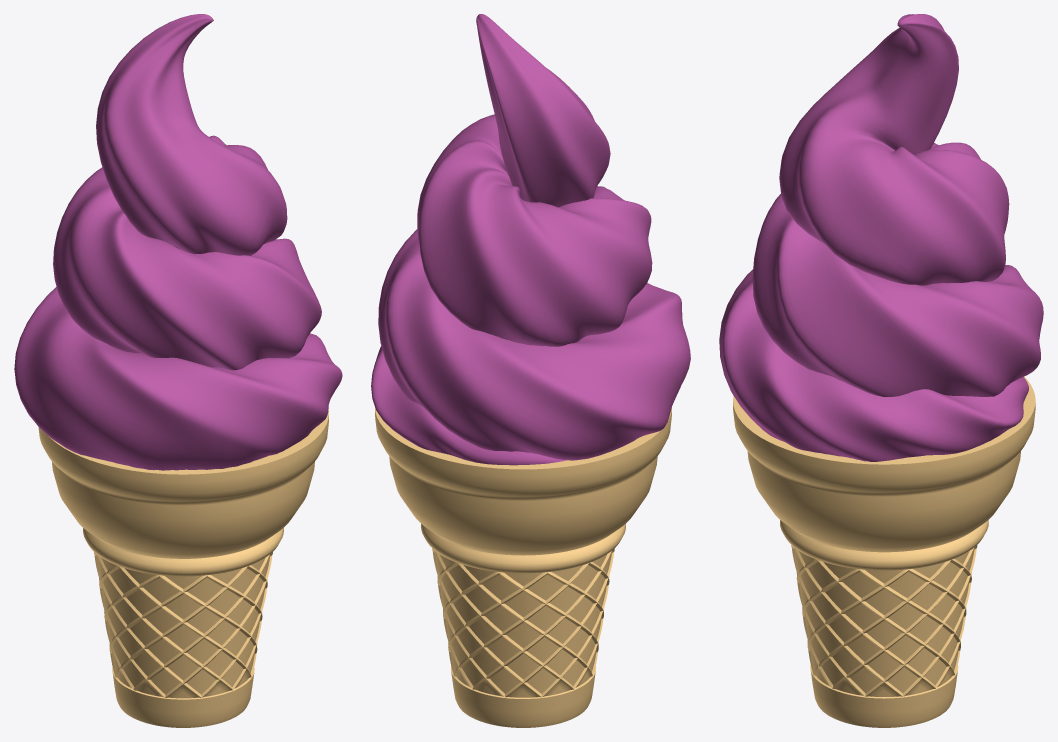
Rendered from ice cream.fbx.
The picture shows the model from 3 angles, left to right: view 1: azimuth 30°, elevation 25°; view 2: azimuth 150°, elevation 25°; view 3: azimuth 270°, elevation 25°; orthographic projection. The views are drawn at different scales.
Parts seen in each view (by area): view 1: Helix002_Material #28_0, Plane005_Material #27_0; view 2: Helix002_Material #28_0, Plane005_Material #27_0; view 3: Helix002_Material #28_0, Plane005_Material #27_0.
Part boxes in pixels (bbox=[...]): Helix002_Material #28_0: bbox=[14, 14, 342, 470]; Plane005_Material #27_0: bbox=[38, 409, 328, 727]; Helix002_Material #28_0: bbox=[371, 14, 690, 465]; Plane005_Material #27_0: bbox=[375, 407, 671, 727]; Helix002_Material #28_0: bbox=[719, 14, 1043, 461]; Plane005_Material #27_0: bbox=[733, 376, 1035, 727].
Size of the model in its own units: 799 by 1869 by 787.
